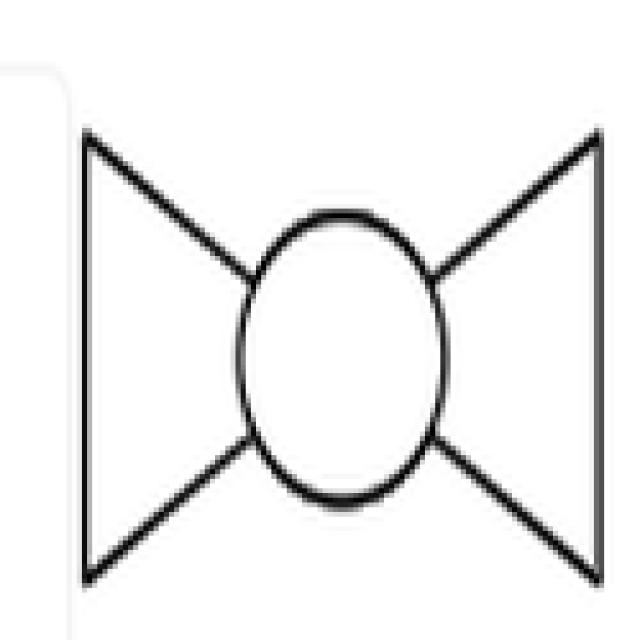ball valve: (84, 130, 602, 582)
